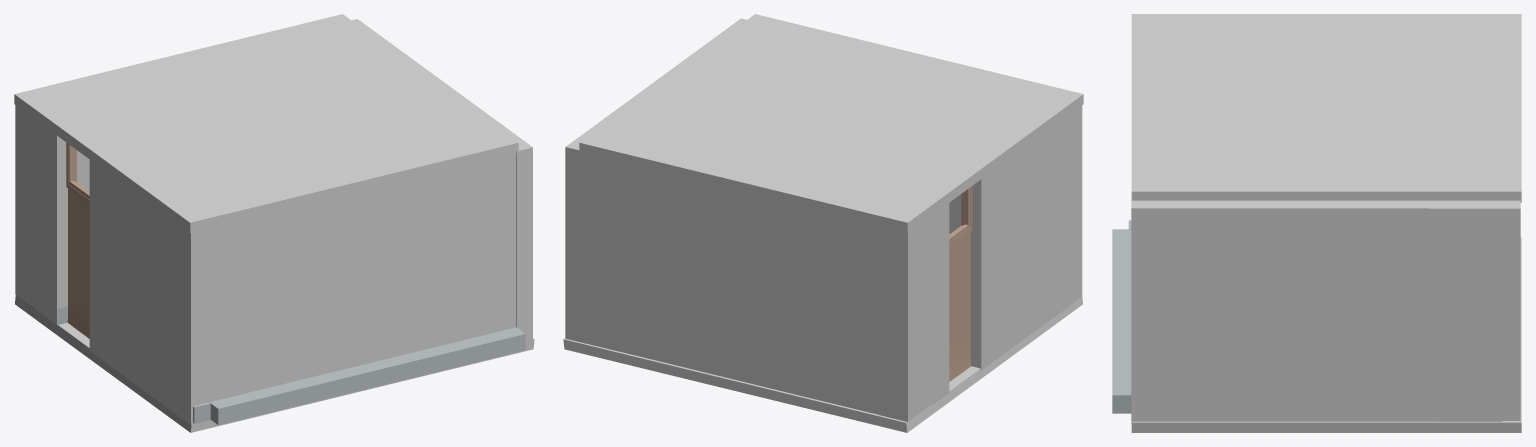
The picture shows the model from 3 angles, left to right: view 1: azimuth 30°, elevation 25°; view 2: azimuth 150°, elevation 25°; view 3: azimuth 270°, elevation 25°; orthographic projection. The views are drawn at different scales.
Visible parts, largest first — view 1: Walls, Floor, Door, Window; view 2: Walls, Door, Window; view 3: Walls, Floor.
Boxes of the visible parts, x1=… form: Walls: x1=14, y1=14, x2=534, y2=432; Floor: x1=42, y1=306, x2=525, y2=425; Door: x1=67, y1=189, x2=89, y2=338; Window: x1=66, y1=142, x2=89, y2=203; Walls: x1=563, y1=14, x2=1083, y2=432; Door: x1=949, y1=232, x2=970, y2=381; Window: x1=949, y1=186, x2=972, y2=247; Walls: x1=1131, y1=14, x2=1521, y2=432; Floor: x1=1112, y1=220, x2=1502, y2=421.
Size of what is drawn, in the model's own units: 10.62 by 6.2 by 9.86.
